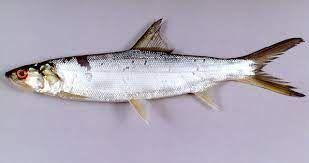Tenpounder: (6, 16, 307, 126)
